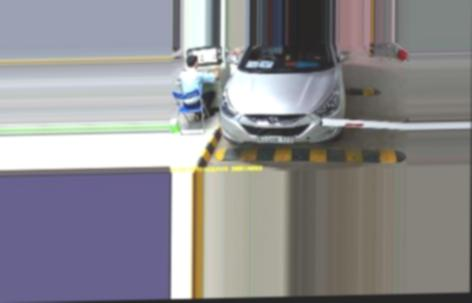License_Plate: (257, 132, 295, 145)
